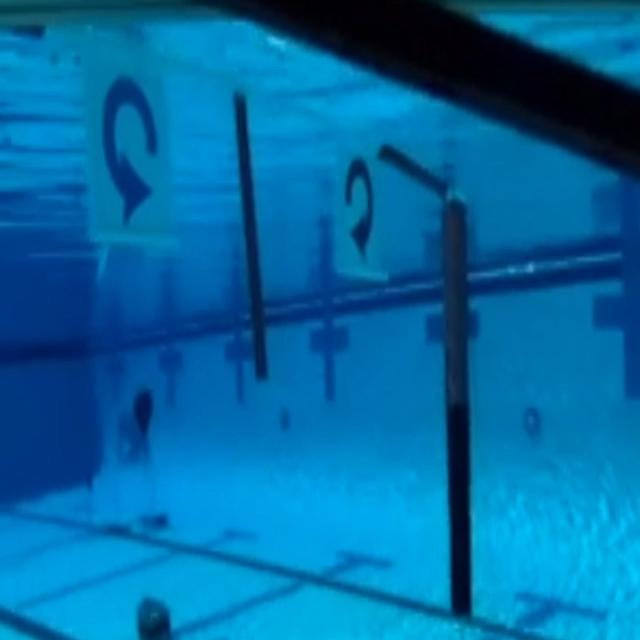Gate: (4, 14, 480, 617)
